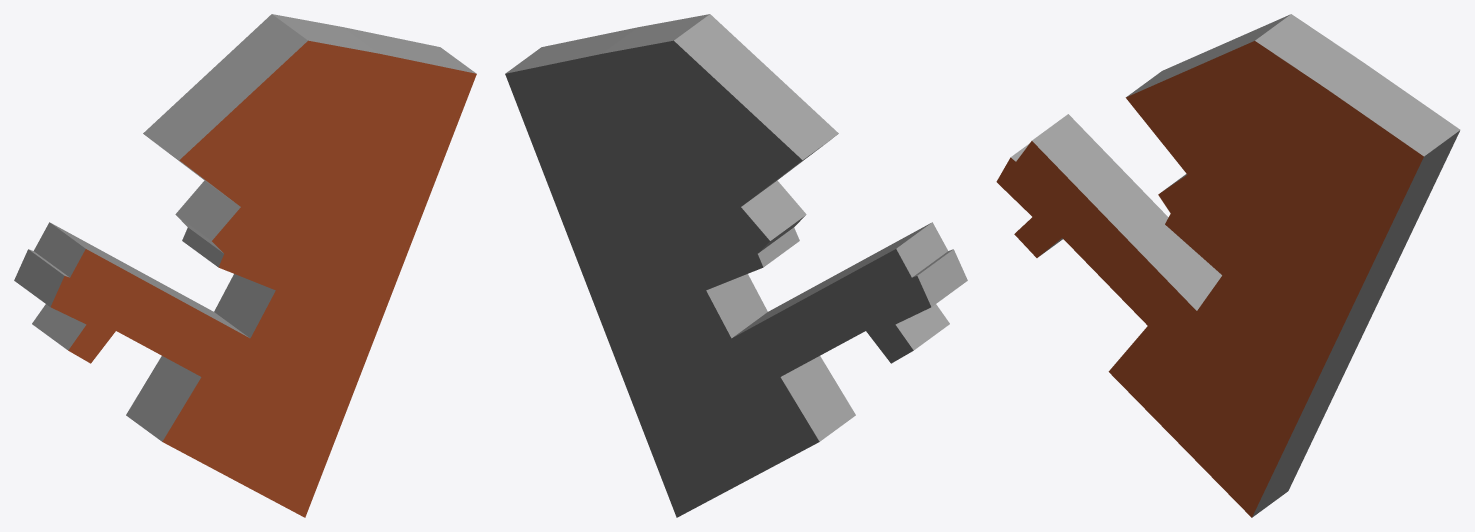
File: construction_5914_assumed_A_Casa_h6m.obj
3 renders of one model, left to right at view 1: azimuth 30°, elevation 25°; view 2: azimuth 150°, elevation 25°; view 3: azimuth 330°, elevation 25°, orthographic.
Visible parts, largest first — view 1: construction_5914_assumed_A_Casa; view 2: construction_5914_assumed_A_Casa; view 3: construction_5914_assumed_A_Casa.
Part boxes in pixels (x1=…): construction_5914_assumed_A_Casa: x1=14, y1=14, x2=476, y2=517; construction_5914_assumed_A_Casa: x1=505, y1=14, x2=967, y2=517; construction_5914_assumed_A_Casa: x1=996, y1=14, x2=1460, y2=517.
Size of the model in its own units: 40.55 by 43.3 by 6.
